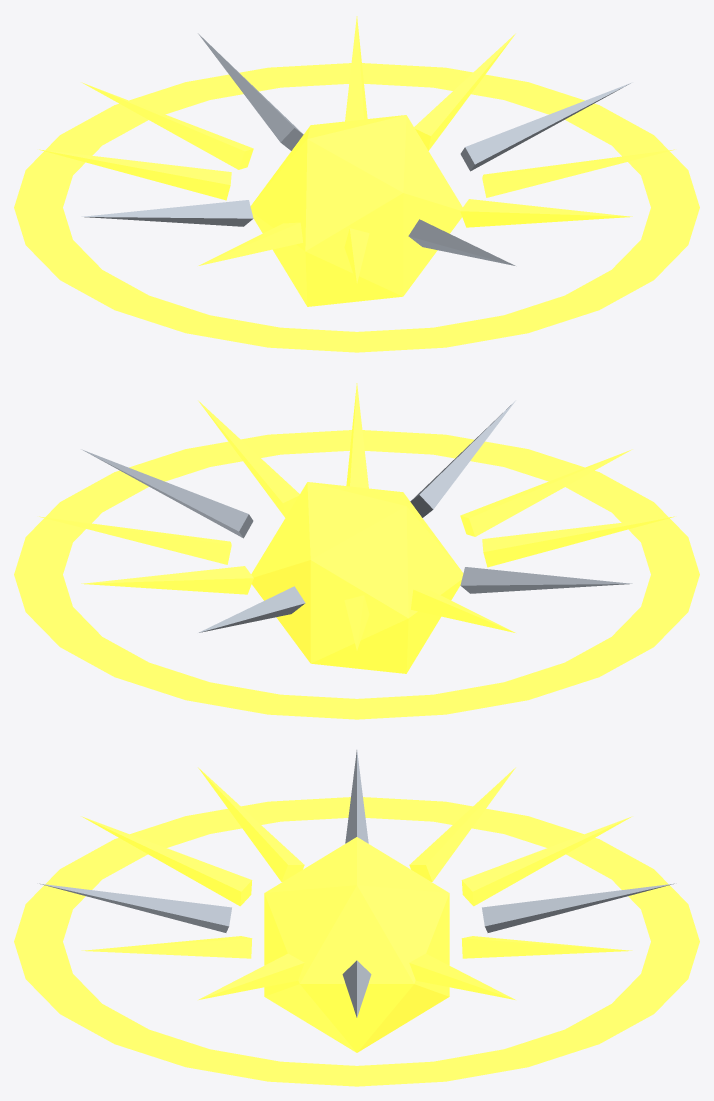
File: vfx_impact_nova.glb
3 views of the same model, one above another, from view 1: azimuth 30°, elevation 25°; view 2: azimuth 150°, elevation 25°; view 3: azimuth 270°, elevation 25° (orthographic).
Visible parts, largest first — view 1: vfx_impact_nova_ring, vfx_impact_nova_core, vfx_impact_nova_shard7, vfx_impact_nova_shard2, vfx_impact_nova_shard8, vfx_impact_nova_shard6, vfx_impact_nova_shard1, vfx_impact_nova_shard0, vfx_impact_nova_shard11, vfx_impact_nova_shard9, vfx_impact_nova_shard3, vfx_impact_nova_shard5 (+2 smaller); view 2: vfx_impact_nova_ring, vfx_impact_nova_core, vfx_impact_nova_shard5, vfx_impact_nova_shard10, vfx_impact_nova_shard4, vfx_impact_nova_shard6, vfx_impact_nova_shard11, vfx_impact_nova_shard0, vfx_impact_nova_shard1, vfx_impact_nova_shard3, vfx_impact_nova_shard9, vfx_impact_nova_shard7 (+2 smaller); view 3: vfx_impact_nova_ring, vfx_impact_nova_core, vfx_impact_nova_shard4, vfx_impact_nova_shard8, vfx_impact_nova_shard3, vfx_impact_nova_shard9, vfx_impact_nova_shard5, vfx_impact_nova_shard7, vfx_impact_nova_shard2, vfx_impact_nova_shard10, vfx_impact_nova_shard1, vfx_impact_nova_shard11 (+2 smaller).
Part boxes in pixels (x1,y1,x2,y2): vfx_impact_nova_ring: [14, 63, 699, 352]; vfx_impact_nova_core: [250, 115, 462, 306]; vfx_impact_nova_shard7: [39, 149, 231, 200]; vfx_impact_nova_shard2: [460, 199, 632, 227]; vfx_impact_nova_shard8: [81, 82, 253, 169]; vfx_impact_nova_shard6: [81, 200, 253, 226]; vfx_impact_nova_shard1: [482, 149, 674, 197]; vfx_impact_nova_shard0: [460, 82, 632, 171]; vfx_impact_nova_shard11: [414, 33, 515, 150]; vfx_impact_nova_shard9: [198, 33, 303, 150]; vfx_impact_nova_shard3: [408, 219, 515, 265]; vfx_impact_nova_shard5: [198, 222, 302, 265]; vfx_impact_nova_ring: [14, 430, 699, 719]; vfx_impact_nova_core: [251, 482, 463, 673]; vfx_impact_nova_shard5: [482, 516, 674, 567]; vfx_impact_nova_shard10: [81, 566, 253, 594]; vfx_impact_nova_shard4: [460, 449, 632, 536]; vfx_impact_nova_shard6: [460, 567, 632, 593]; vfx_impact_nova_shard11: [39, 516, 231, 564]; vfx_impact_nova_shard0: [81, 449, 253, 538]; vfx_impact_nova_shard1: [198, 400, 299, 517]; vfx_impact_nova_shard3: [410, 400, 515, 517]; vfx_impact_nova_shard9: [198, 586, 305, 632]; vfx_impact_nova_shard7: [411, 589, 515, 632]; vfx_impact_nova_ring: [14, 797, 699, 1086]; vfx_impact_nova_core: [264, 837, 449, 1052]; vfx_impact_nova_shard4: [81, 816, 252, 906]; vfx_impact_nova_shard8: [461, 816, 632, 906]; vfx_impact_nova_shard3: [39, 883, 231, 932]; vfx_impact_nova_shard9: [482, 883, 674, 932]; vfx_impact_nova_shard5: [198, 767, 304, 881]; vfx_impact_nova_shard7: [409, 767, 515, 881]; vfx_impact_nova_shard2: [81, 936, 252, 958]; vfx_impact_nova_shard10: [461, 936, 632, 958]; vfx_impact_nova_shard1: [198, 953, 304, 999]; vfx_impact_nova_shard11: [409, 953, 515, 999].
Size of the model in its own units: 1.89 by 0.5104 by 1.89.
